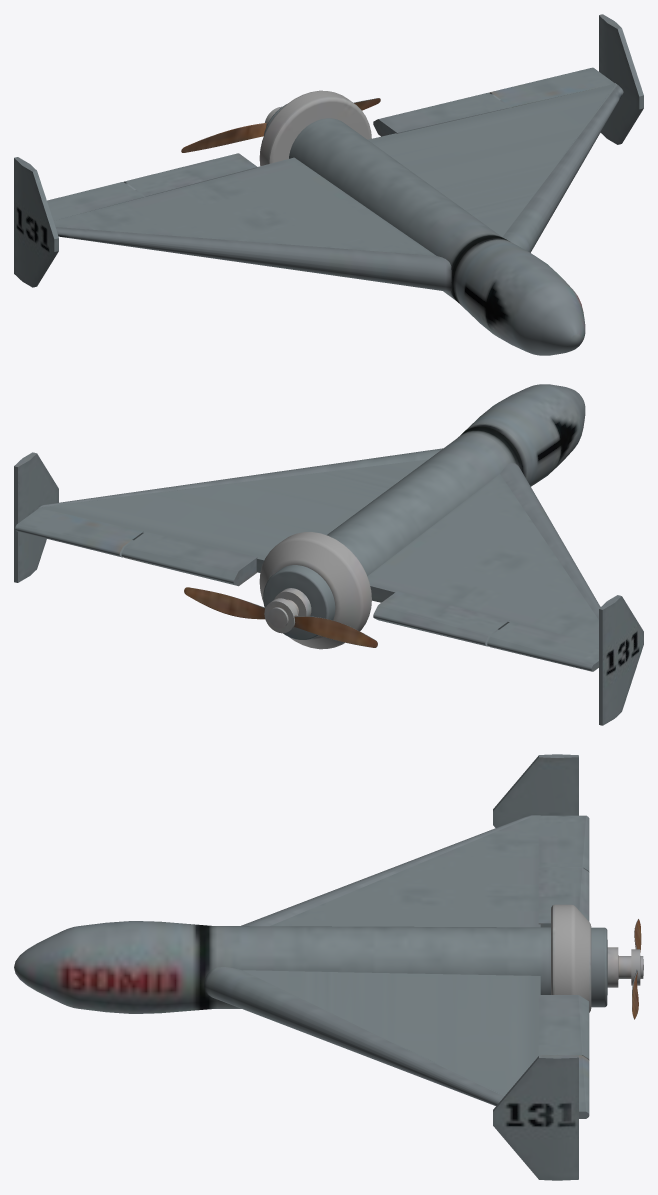
The model's file is Shahed.fbx.
3 views of the same model, one above another, from view 1: azimuth 30°, elevation 25°; view 2: azimuth 150°, elevation 25°; view 3: azimuth 270°, elevation 25° (orthographic). The views are drawn at different scales.
Visible parts, largest first — view 1: WingsR_Low, Body_Low, WingsL_Low, GuidesL_Low, GuidesR_Low, Blades_Low; view 2: Body_Low, WingsR_Low, WingsL_Low, GuidesL_Low, GuidesR_Low, Blades_Low; view 3: Body_Low, WingsL_Low, WingsR_Low, GuidesR_Low, GuidesL_Low.
Part boxes in pixels (x1,y1,x2,y2): WingsR_Low: [14, 157, 451, 291]; Body_Low: [259, 90, 585, 355]; WingsL_Low: [368, 14, 643, 252]; GuidesL_Low: [373, 67, 614, 136]; GuidesR_Low: [47, 153, 257, 220]; Blades_Low: [181, 98, 380, 152]; Body_Low: [259, 384, 585, 649]; WingsR_Low: [367, 462, 643, 725]; WingsL_Low: [14, 448, 442, 582]; GuidesL_Low: [15, 509, 257, 586]; GuidesR_Low: [373, 591, 598, 671]; Blades_Low: [184, 587, 377, 647]; Body_Low: [14, 904, 643, 1013]; WingsL_Low: [204, 967, 578, 1180]; WingsR_Low: [241, 754, 578, 927]; GuidesR_Low: [538, 815, 589, 927]; GuidesL_Low: [538, 995, 589, 1118].
Bounding box in the file's own units: 18.04 × 3.37 × 15.78.
